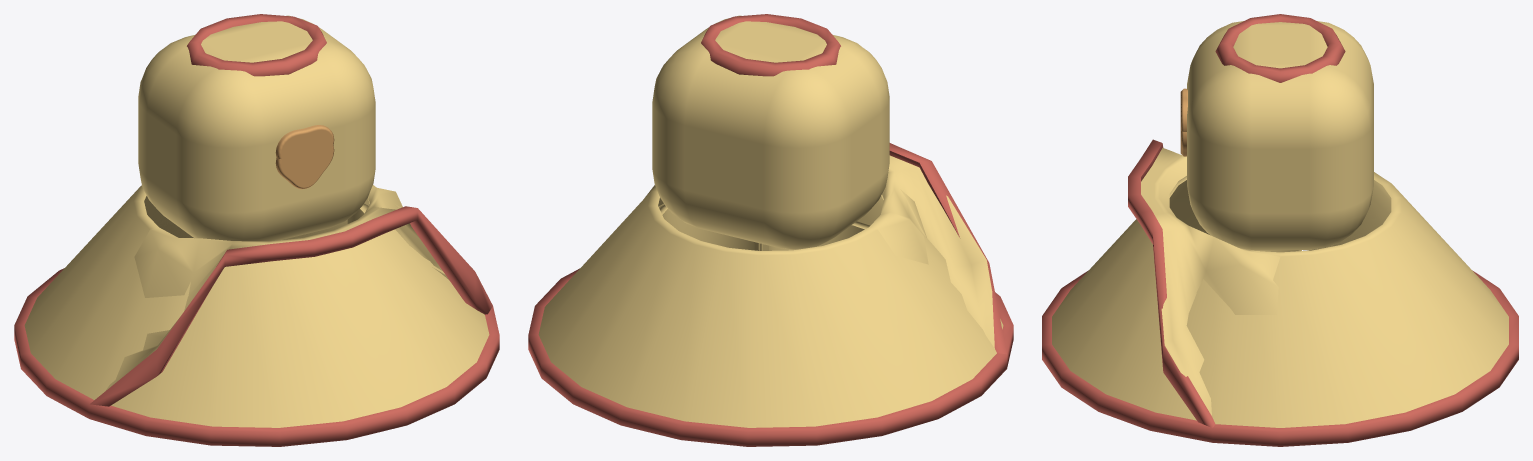
Rendered from apple_dress.glb.
The picture shows the model from 3 angles, left to right: view 1: azimuth 30°, elevation 25°; view 2: azimuth 150°, elevation 25°; view 3: azimuth 270°, elevation 25°; orthographic projection.
Parts seen in each view (by area): view 1: apple_dress_Body, apple_dress_Body_sit; view 2: apple_dress_Body, apple_dress_Body_sit, apple_dress_LegR_sit, apple_dress_LegL_sit; view 3: apple_dress_Body, apple_dress_Body_sit.
Part boxes in pixels (x1=…): apple_dress_Body: x1=14, y1=14, x2=499, y2=446; apple_dress_Body_sit: x1=90, y1=43, x2=492, y2=406; apple_dress_Body: x1=528, y1=14, x2=1013, y2=446; apple_dress_Body_sit: x1=645, y1=48, x2=1006, y2=354; apple_dress_LegR_sit: x1=659, y1=203, x2=762, y2=250; apple_dress_LegL_sit: x1=758, y1=221, x2=869, y2=250; apple_dress_Body: x1=1042, y1=14, x2=1518, y2=446; apple_dress_Body_sit: x1=1128, y1=70, x2=1388, y2=427.
Size of the model in its own units: 0.748 by 0.5289 by 0.7404.
